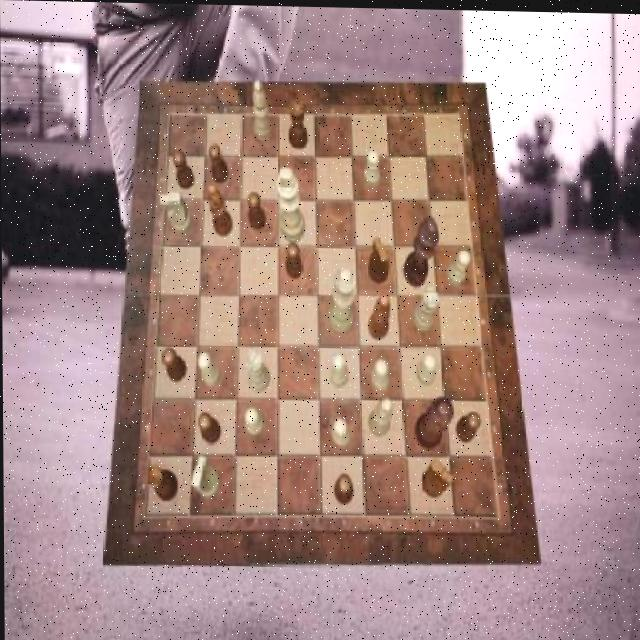bishop: (207, 182, 232, 237), (366, 292, 389, 339)
black-bishop: (402, 215, 439, 288)
black-king: (419, 457, 452, 496), (367, 236, 388, 282)
black-knight: (172, 149, 194, 187), (161, 348, 185, 382), (207, 144, 227, 184), (196, 411, 220, 444), (455, 409, 479, 441), (285, 240, 303, 277), (248, 191, 266, 228), (333, 472, 352, 503)
black-pawn: (413, 395, 454, 449)
black-queen: (144, 464, 177, 502), (288, 99, 307, 148)
black-rook: (253, 80, 273, 142), (367, 396, 392, 435)
white-bishop: (276, 167, 304, 242)
white-king: (160, 191, 191, 234), (191, 454, 220, 496)
white-knight: (447, 248, 471, 284), (196, 351, 219, 386), (362, 148, 380, 186), (416, 352, 436, 385), (371, 357, 390, 391), (329, 350, 347, 385), (242, 407, 263, 435), (331, 417, 350, 446)
white-pawn: (326, 265, 355, 331)
white-queen: (412, 285, 437, 328), (245, 349, 268, 391)
